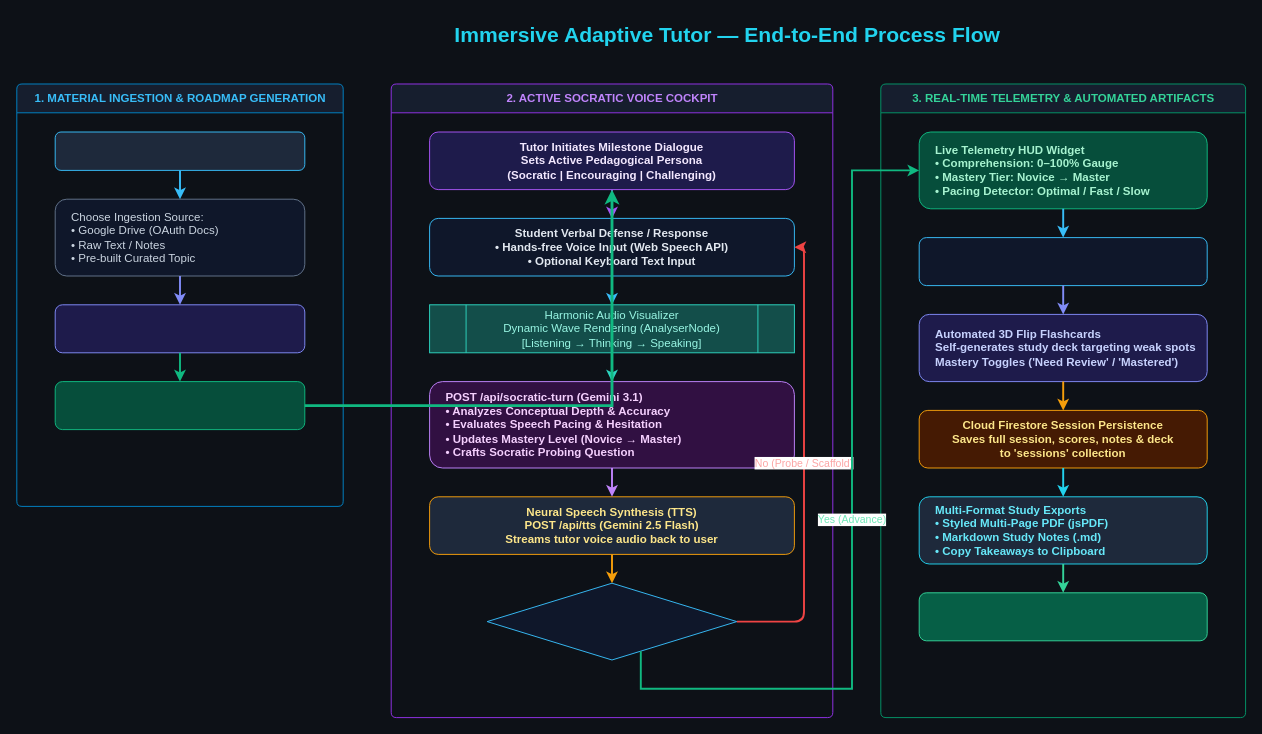
This 1262x734 diagram has some shape labels left out. The shapes that lost their labels are listed below. From the top down, each one's centre as x and y in pixels, then its label:
At pixel 179 150: "Start / Select Mode".
At pixel 1062 261: "Live Concept Takeaways Feed Auto-extracts key breakthroughs on the fly".
At pixel 179 328: "POST /api/generate-roadmap Gemini 3.1 Flash-Lite Engine".
At pixel 179 405: "Curriculum Checkpoint Roadmap (3–5 Progressive Milestones)".
At pixel 611 621: "Milestone Concept Understood? Comprehension Score >= 75%?".
At pixel 1062 616: "Session Complete / Revisit via History Drawer".
